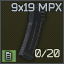MPX 9x19 20-round magazine: (0, 0, 64, 64)
